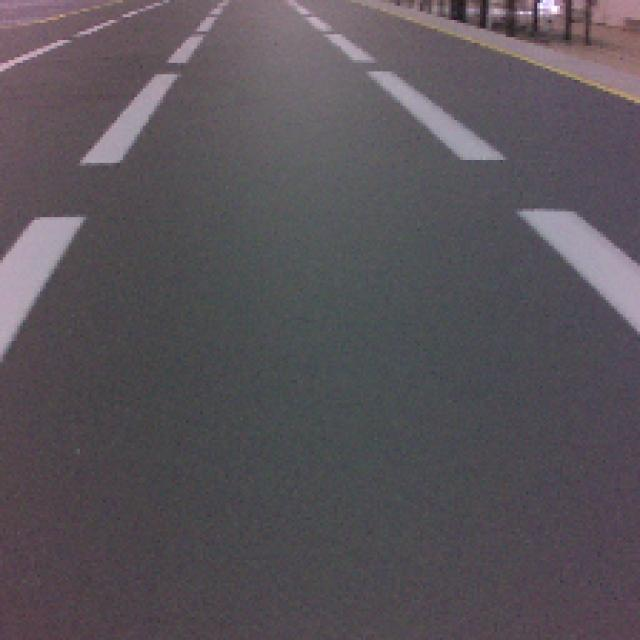Road: (1, 132, 633, 354)
